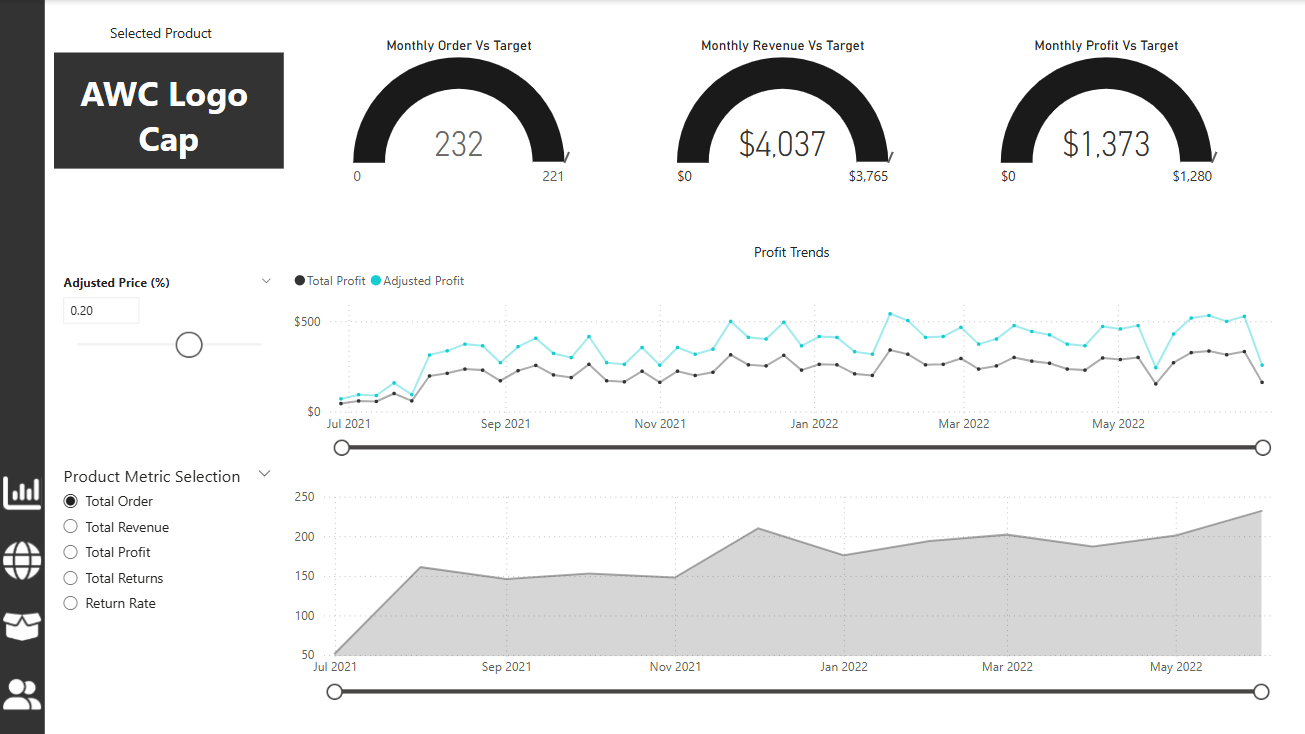

The page's visual inventory and layout, read from the dashboard file:
{"tool":"powerbi","page":{"name":"Product Details","canvas":[1280,720],"ordinal":2},"visuals":[{"type":"shape","box":[0,0,45,719.7],"z":0},{"type":"gauge","title":"Monthly Order Vs Target","fields":{"Y":["Measure Table.Total Order"],"TargetValue":["Measure Table.Order Target"]},"box":[322.1,36.4,256.8,155.3],"z":1000},{"type":"gauge","title":"Monthly Revenue Vs Target","fields":{"Y":["Measure Table.Total Revenue"],"TargetValue":["Measure Table.Revenue Target"]},"box":[638.8,36.4,256.8,155.3],"z":2000},{"type":"gauge","title":"Monthly Profit Vs Target","fields":{"TargetValue":["Measure Table.Profit Target"],"Y":["Measure Table.Total Profit"]},"box":[955.5,36.4,256.8,155.3],"z":3000},{"type":"lineChart","title":"Profit Trends","fields":{"Category":["Calendar Lookup.Date Hierarchy.Start of Year","Calendar Lookup.Date Hierarchy.Start of Month","Calendar Lookup.Date Hierarchy.Start of Week","Calendar Lookup.Date Hierarchy.Date"],"Y":["Measure Table.Total Profit","Measure Table.Adjusted Profit"]},"box":[283.7,237.2,983.2,211.6],"z":4000},{"type":"areaChart","title":"Return Trends","fields":{"Y":["Measure Table.Total Order"],"Category":["Calendar Lookup.Date Hierarchy.Start of Year","Calendar Lookup.Date Hierarchy.Start of Month","Calendar Lookup.Date Hierarchy.Start of Week","Calendar Lookup.Date Hierarchy.Date"]},"box":[283.8,472.5,982.5,215],"z":5000},{"type":"card","fields":{"Values":["Min(Product Lookup.ProductName)"]},"box":[53.8,51.4,225,113.7],"z":6000},{"type":"textbox","box":[84.4,18.3,148,33],"z":7000},{"type":"actionButton","box":[0,457.3,45.2,50.1],"z":8000},{"type":"actionButton","box":[0,588.6,45.2,50.1],"z":9000},{"type":"actionButton","box":[0,654.2,45.2,50.1],"z":10000},{"type":"actionButton","box":[0,523,45.2,50.1],"z":11000},{"type":"slicer","fields":{"Values":["Adjusted Price (%).Adjusted Price (%)"]},"box":[50,263.3,228.9,105.6],"z":12000},{"type":"slicer","fields":{"Values":["Product Metric Selection.Product Metric Selection"]},"box":[50,448.8,228.8,190],"z":13000}]}

Visuals, with their boxes on the page's 1280x720 design canvas (x1, y1, x2, y2). These are canvas units, not pixel positions in the 1305x734 screenshot, which may show the page scaled, cropped or inside an application window:
shape: (0,0,45,720)
"Monthly Order Vs Target" gauge: (322,36,579,192)
"Monthly Revenue Vs Target" gauge: (639,36,896,192)
"Monthly Profit Vs Target" gauge: (956,36,1212,192)
"Profit Trends" lineChart: (284,237,1267,449)
"Return Trends" areaChart: (284,472,1266,688)
card - Min(Product Lookup.ProductName): (54,51,279,165)
textbox: (84,18,232,51)
actionButton: (0,457,45,507)
actionButton: (0,589,45,639)
actionButton: (0,654,45,704)
actionButton: (0,523,45,573)
slicer - Adjusted Price (%).Adjusted Price (%): (50,263,279,369)
slicer - Product Metric Selection.Product Metric Selection: (50,449,279,639)
